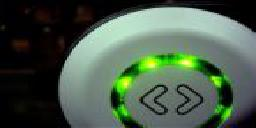LED: (112, 50, 234, 127)
